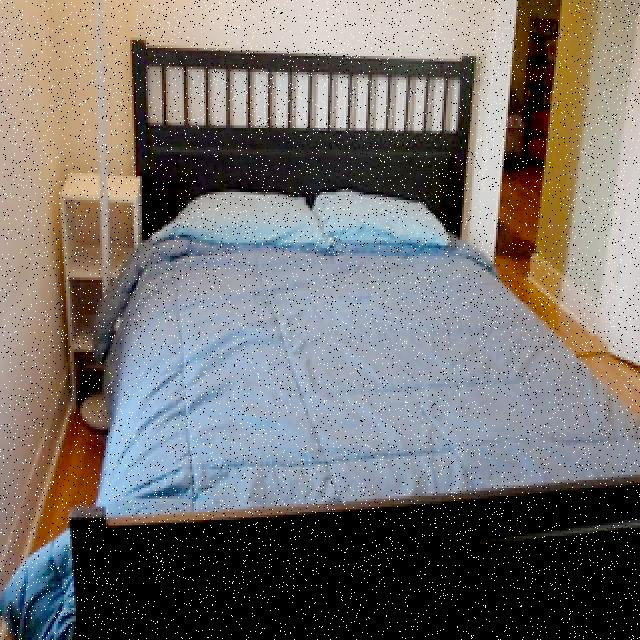bed: (116, 26, 640, 640)
